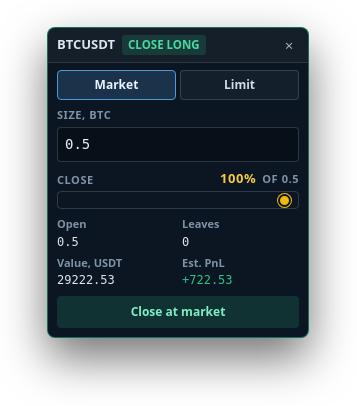
Test case: FuturesPositionCloser › moves the slider to a size that was typed instead
Replace the text in the field named "Close size" with "0.15": coordinates (178, 144) x1=57 y1=126 x2=299 y2=162
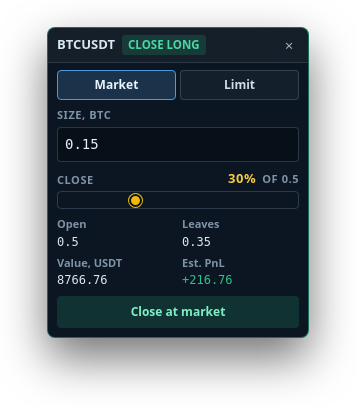
Expected: the slider named "Close size, percent of the position" holds "30", x1=57 y1=191 x2=299 y2=209
